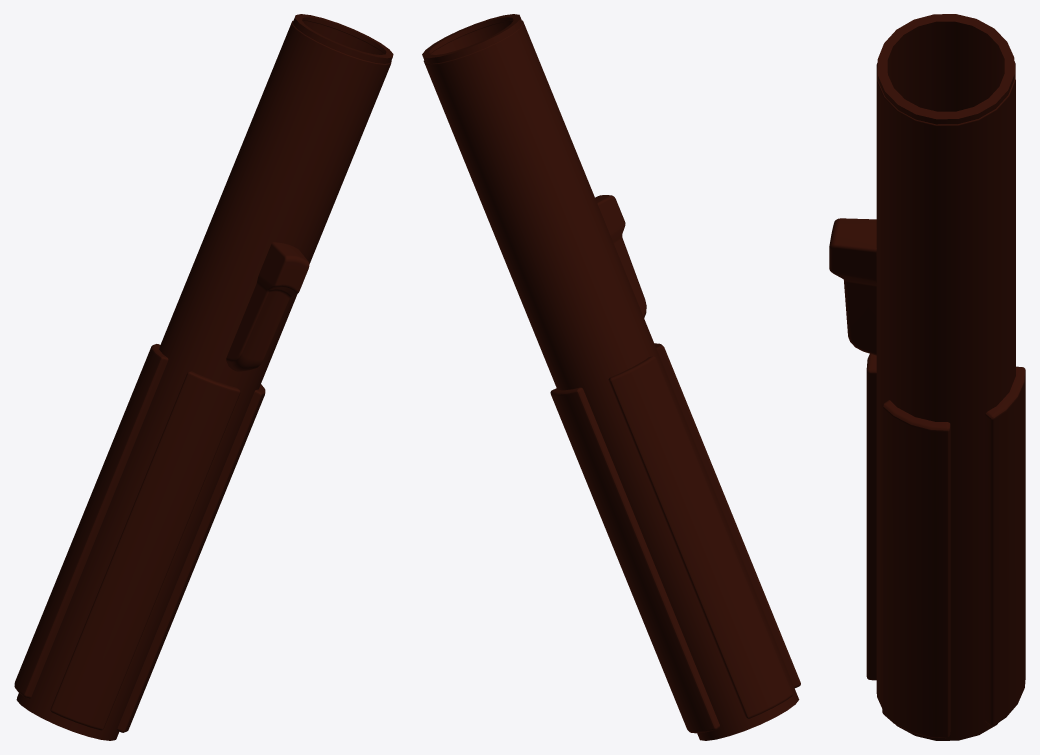
The model's file is Grip_Yoda.obj.
3 renders of one model, left to right at view 1: azimuth 30°, elevation 25°; view 2: azimuth 150°, elevation 25°; view 3: azimuth 270°, elevation 25°, orthographic. The views are drawn at different scales.
Visible parts, largest first — view 1: Grip_Yoda Yoda_GRP; view 2: Grip_Yoda Yoda_GRP; view 3: Grip_Yoda Yoda_GRP.
Boxes of the visible parts, left/top/right/bottom form: Grip_Yoda Yoda_GRP: left=14, top=14, right=393, bottom=740; Grip_Yoda Yoda_GRP: left=422, top=14, right=800, bottom=740; Grip_Yoda Yoda_GRP: left=829, top=14, right=1025, bottom=740.
Bounding box in the file's own units: 9.58 × 16.58 × 3.48.
